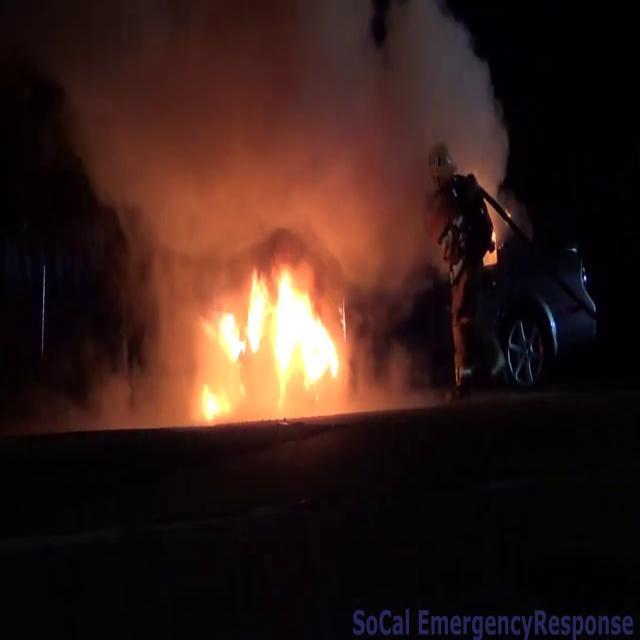Fire: (194, 260, 350, 413)
Smoke: (42, 1, 510, 268)
